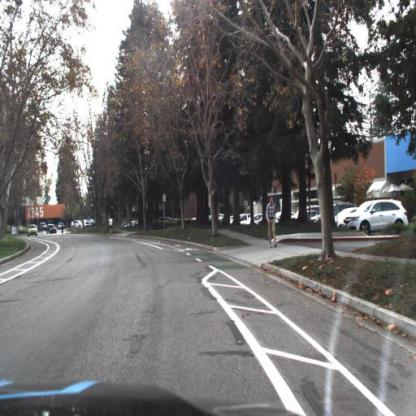biker: (109, 217, 115, 238)
car: (340, 199, 409, 231), (47, 224, 57, 237), (30, 225, 39, 238)
pedestrian: (267, 196, 280, 250), (149, 212, 156, 231)
